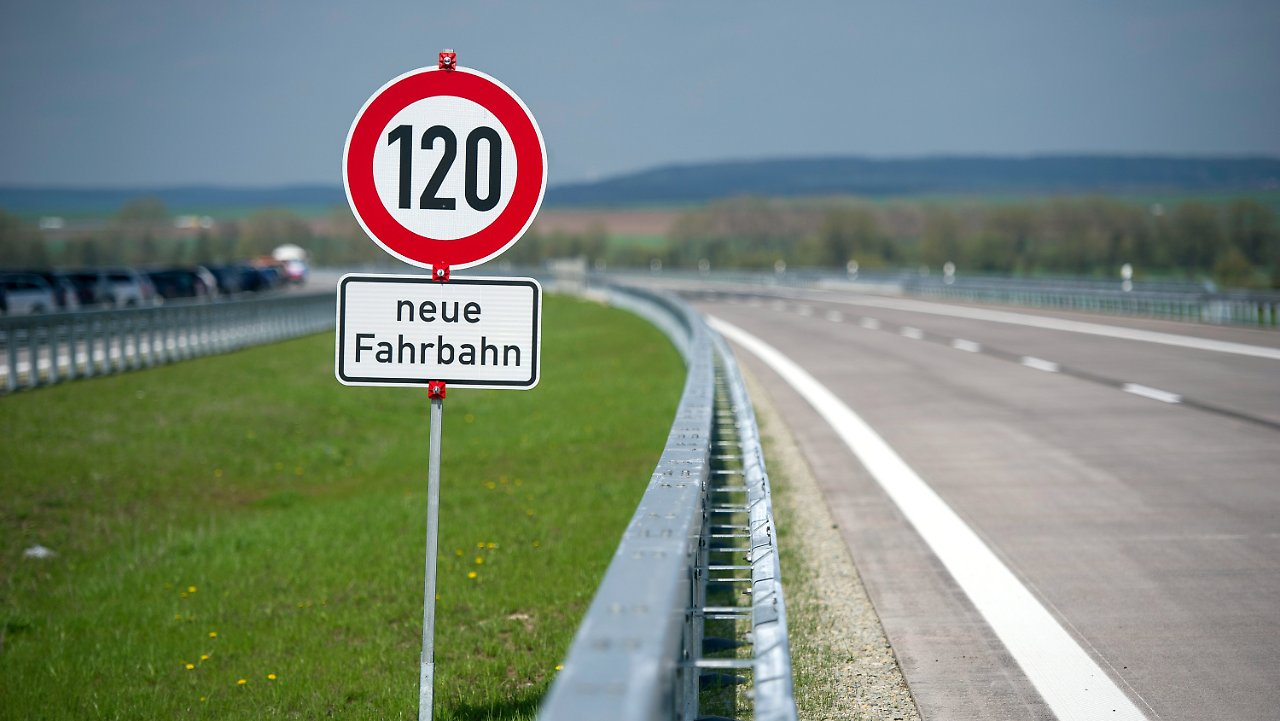Speed_limit_120km: (336, 54, 550, 271)
